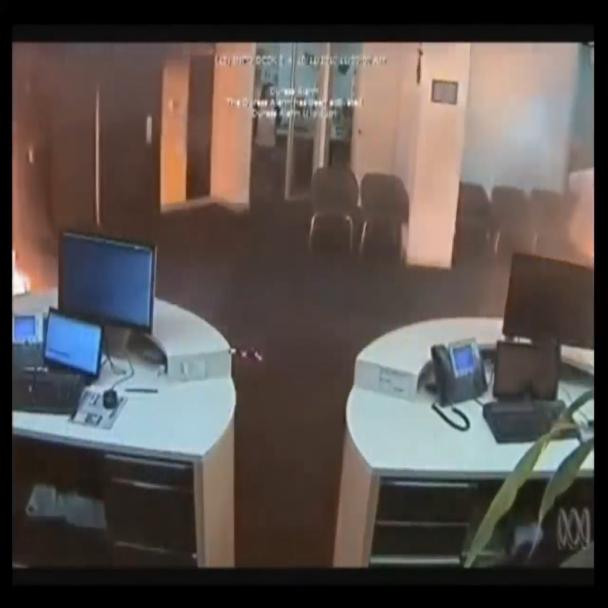Fire: (15, 38, 164, 345)
